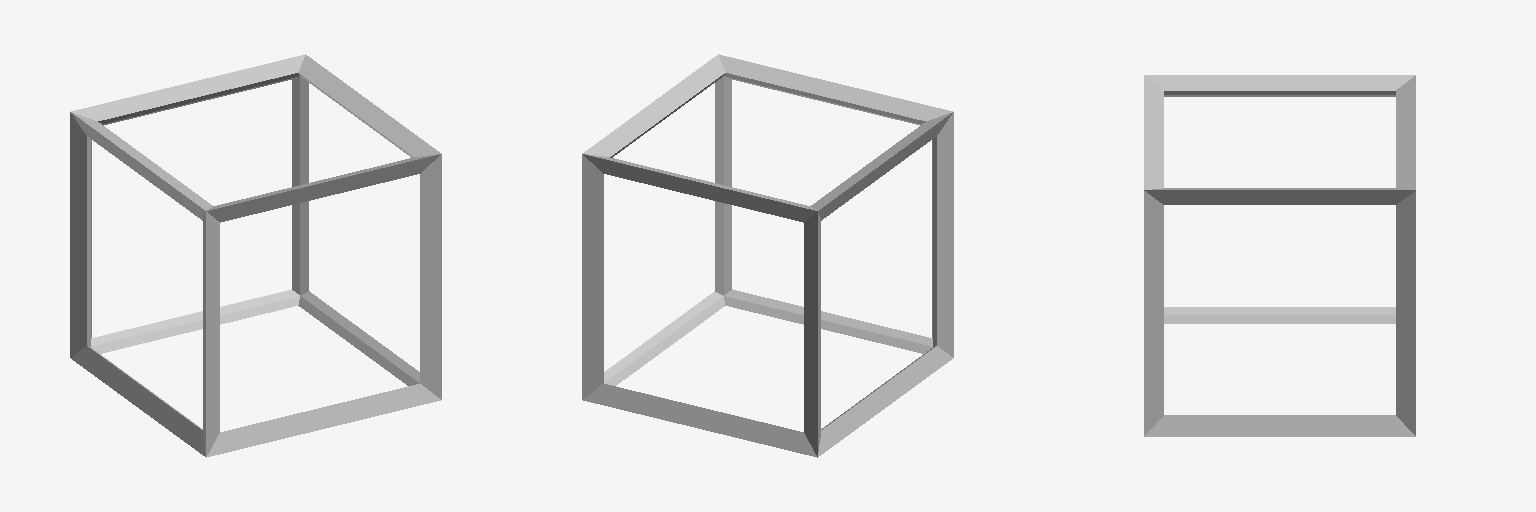
The model's file is cube_wireframe.obj.
3 renders of one model, left to right at view 1: azimuth 30°, elevation 25°; view 2: azimuth 150°, elevation 25°; view 3: azimuth 270°, elevation 25°, orthographic.
Parts seen in each view (by area): view 1: Cube; view 2: Cube; view 3: Cube.
Part boxes in pixels (x1,y1,x2,y2): Cube: (70, 54, 441, 457); Cube: (582, 54, 953, 457); Cube: (1144, 75, 1415, 436).
Size of the model in its own units: 2.12 by 2.12 by 2.12.